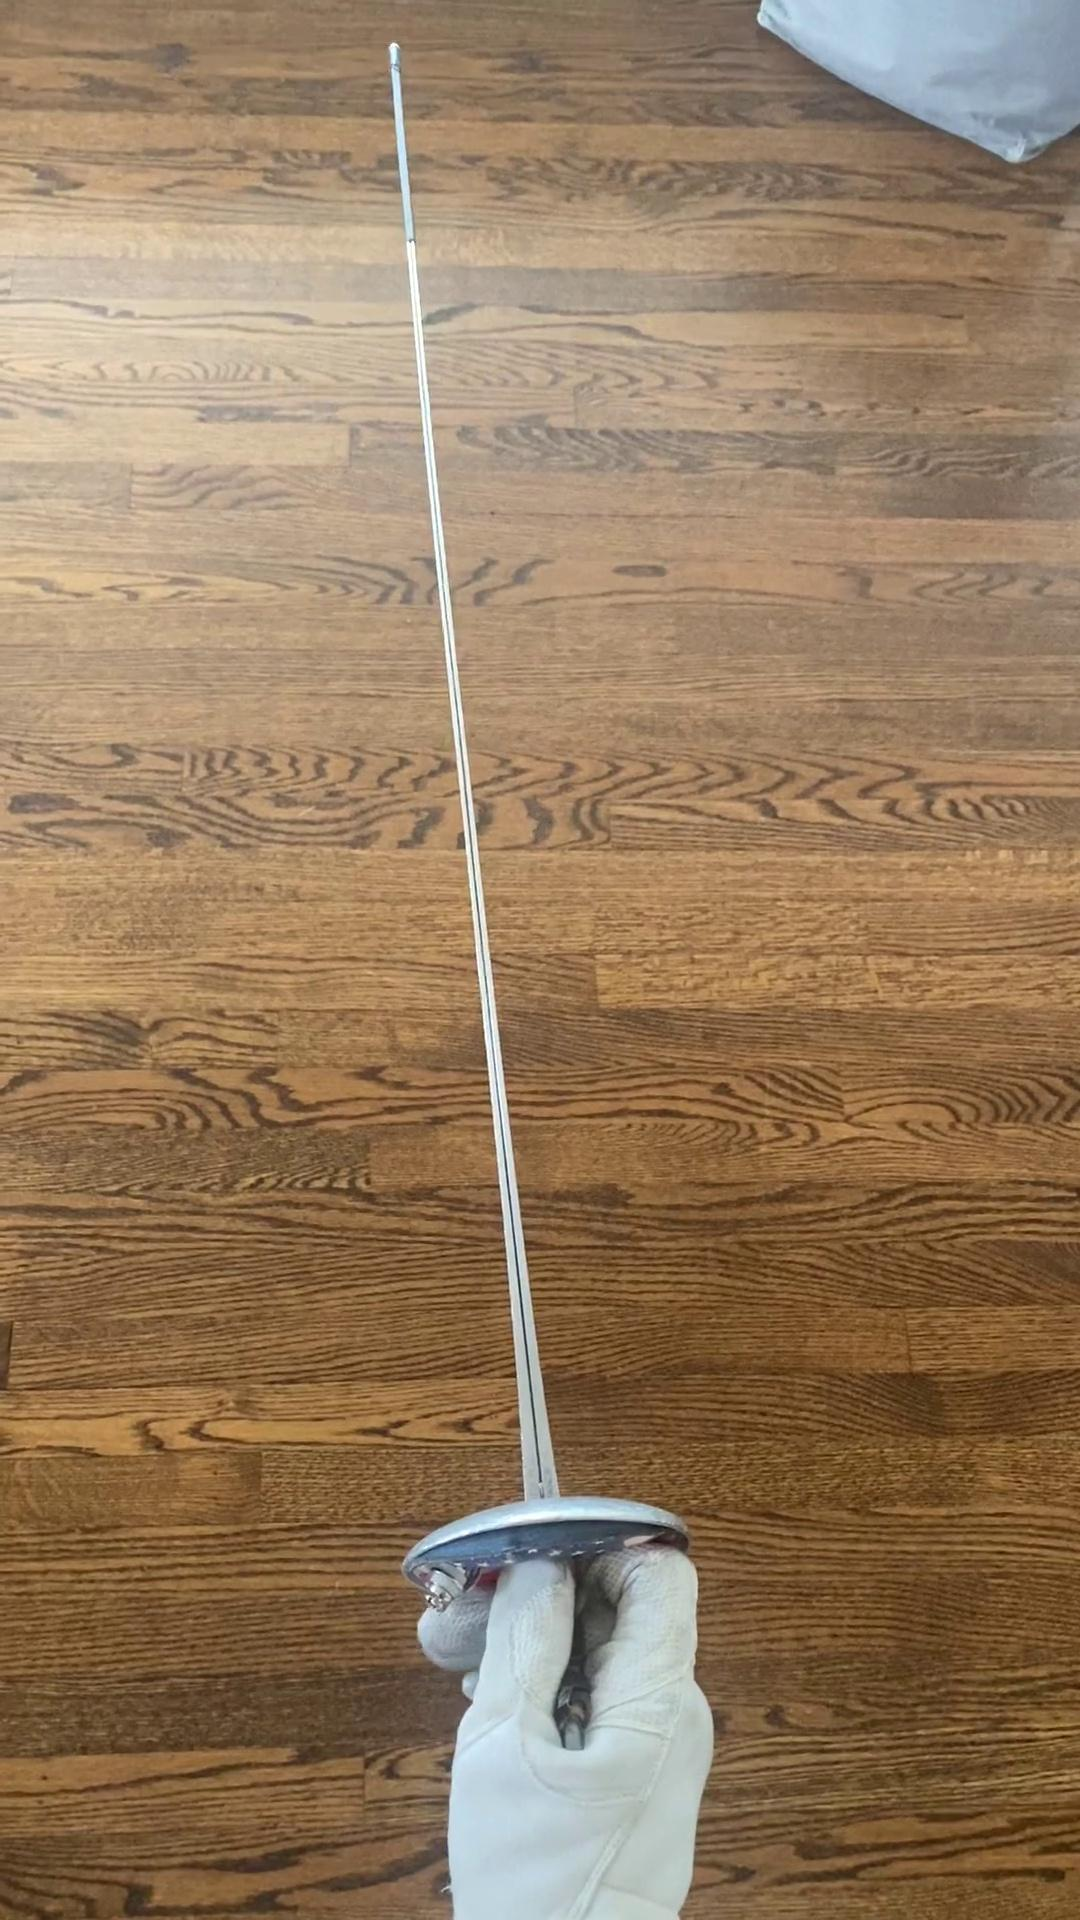blade-guard: (389, 1481, 702, 1619)
blade-tip: (385, 26, 429, 255)
fencing-blade: (377, 22, 702, 1766)
